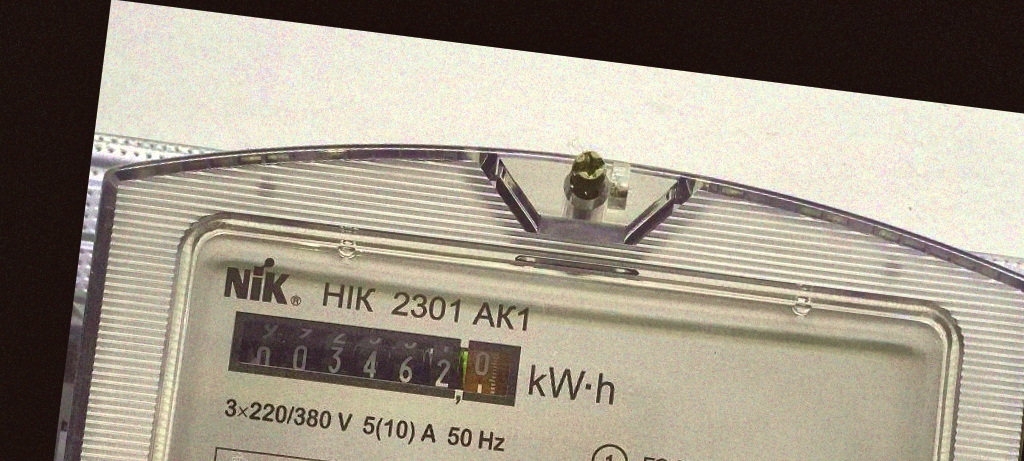0: (289, 340, 310, 371), (471, 348, 491, 378), (251, 342, 273, 367)
2: (431, 355, 453, 389)
3: (323, 343, 345, 377)
4: (360, 346, 381, 380)
6: (393, 351, 418, 387)
9: (257, 320, 279, 341)
screen: (213, 297, 534, 426)
